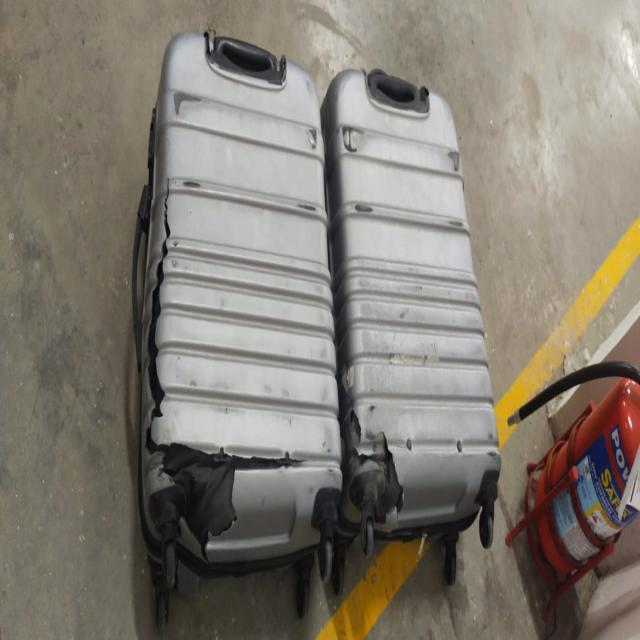Damage-bag: (149, 432, 296, 557), (344, 411, 402, 556), (148, 239, 168, 415), (165, 181, 170, 238)
